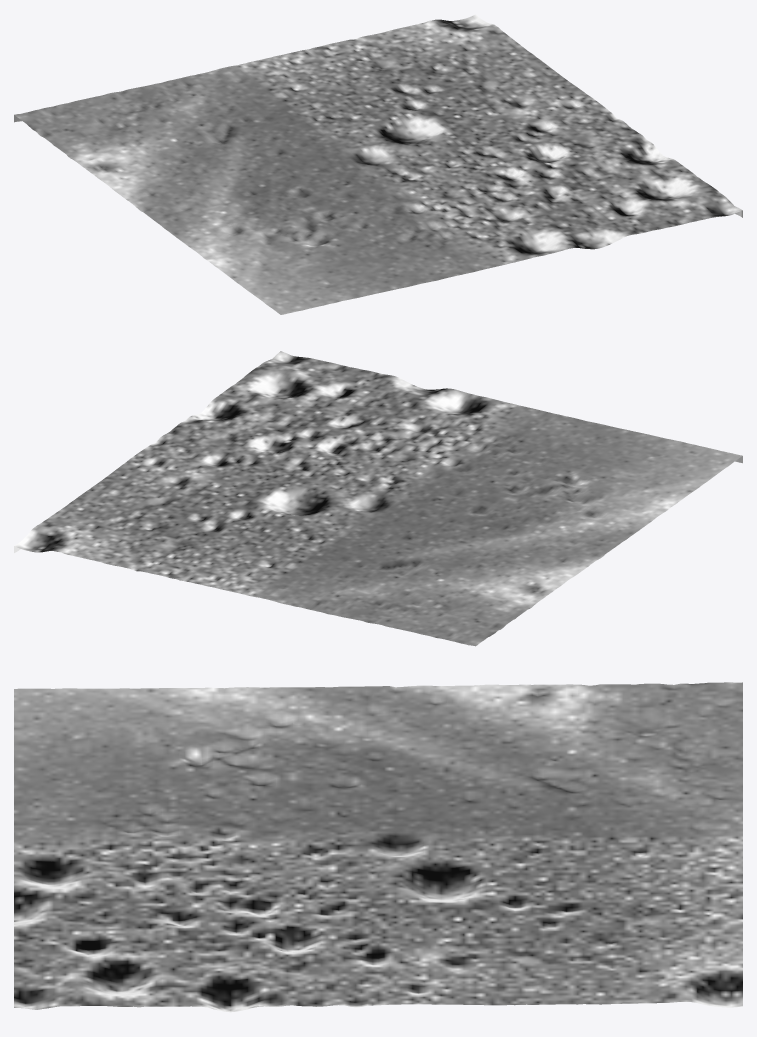
The picture shows the model from 3 angles, top to bottom: view 1: azimuth 30°, elevation 25°; view 2: azimuth 150°, elevation 25°; view 3: azimuth 270°, elevation 25°; orthographic projection. The views are drawn at different scales.
Size of the model in its own units: 5109 by 252 by 5113.
Materials: 1 (1 with a texture image).
